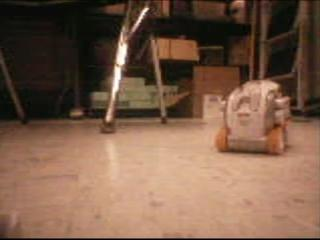cozmo: (214, 78, 292, 155)
